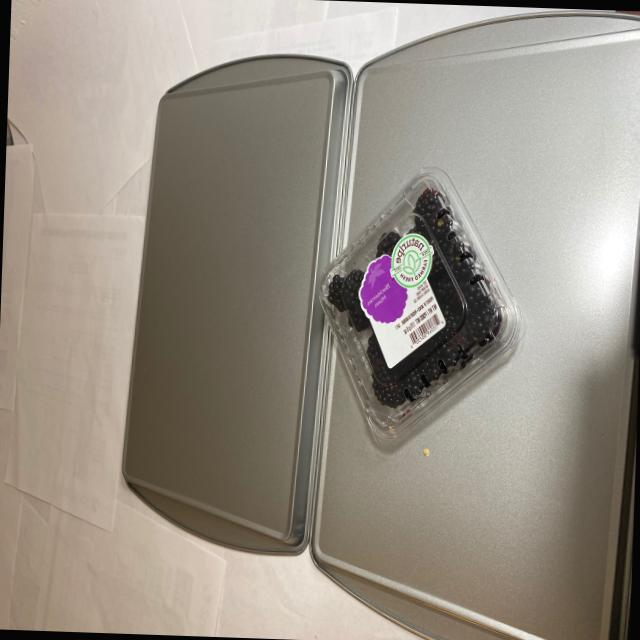blackberries: (308, 187, 506, 432)
